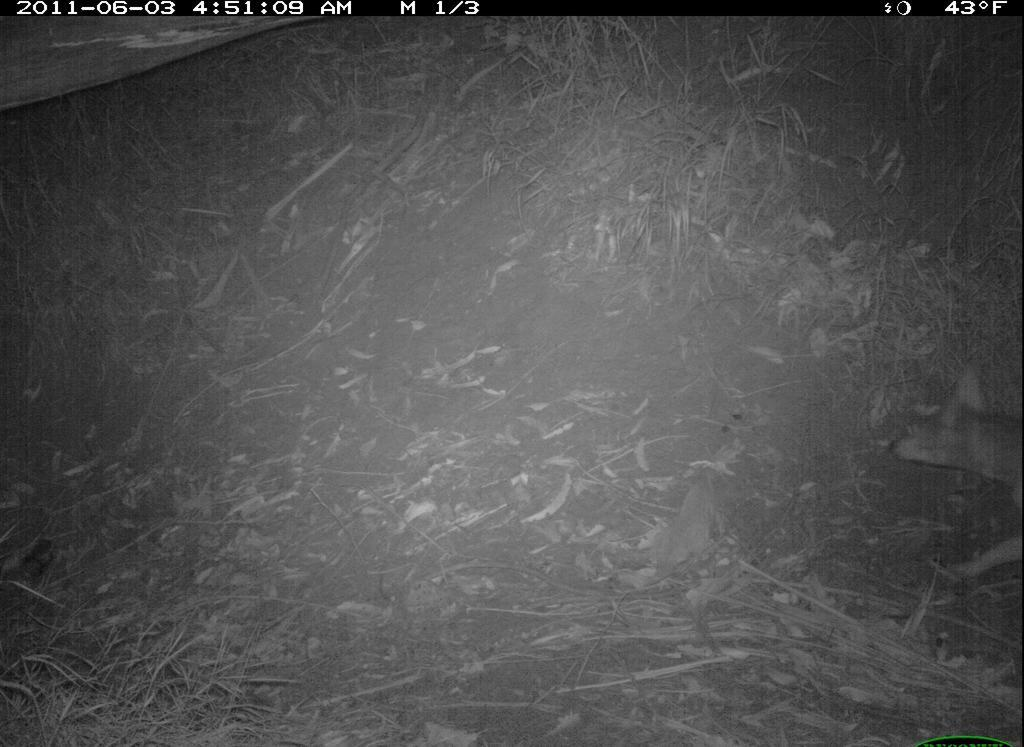coyote: (886, 351, 1023, 571)
